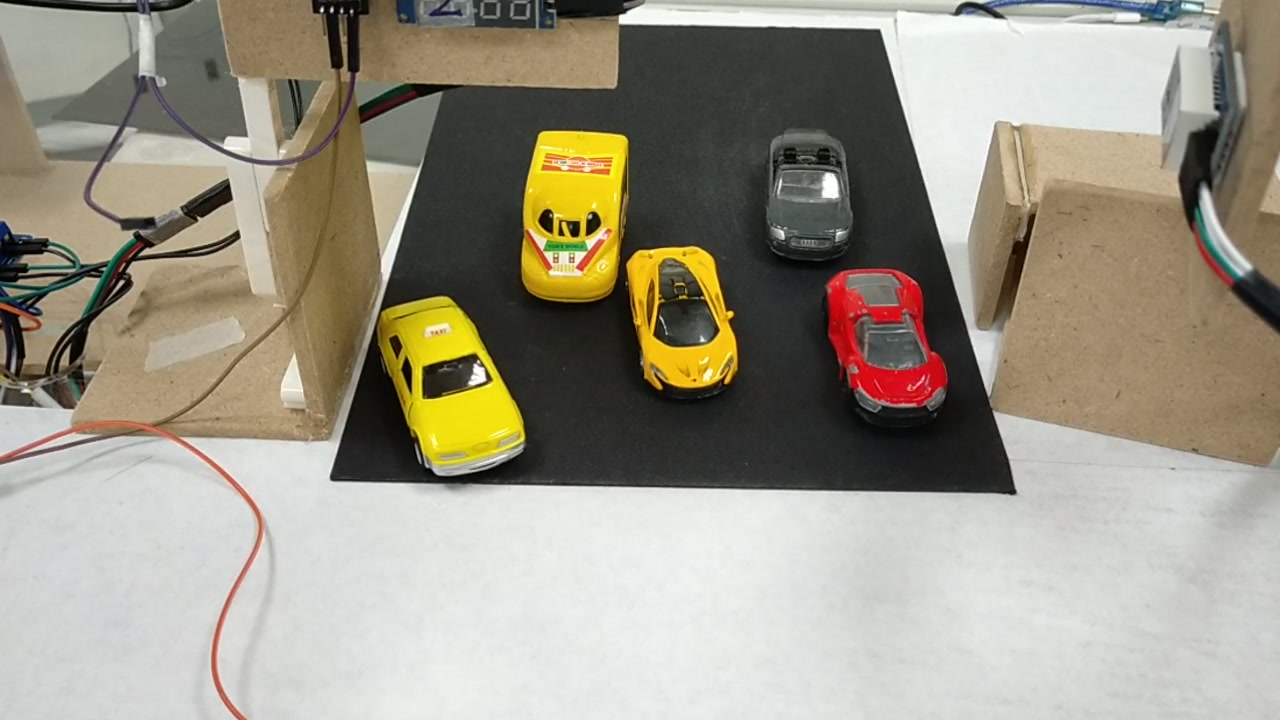car: (369, 302, 530, 474), (820, 270, 945, 417), (623, 247, 739, 395), (758, 131, 857, 254)
